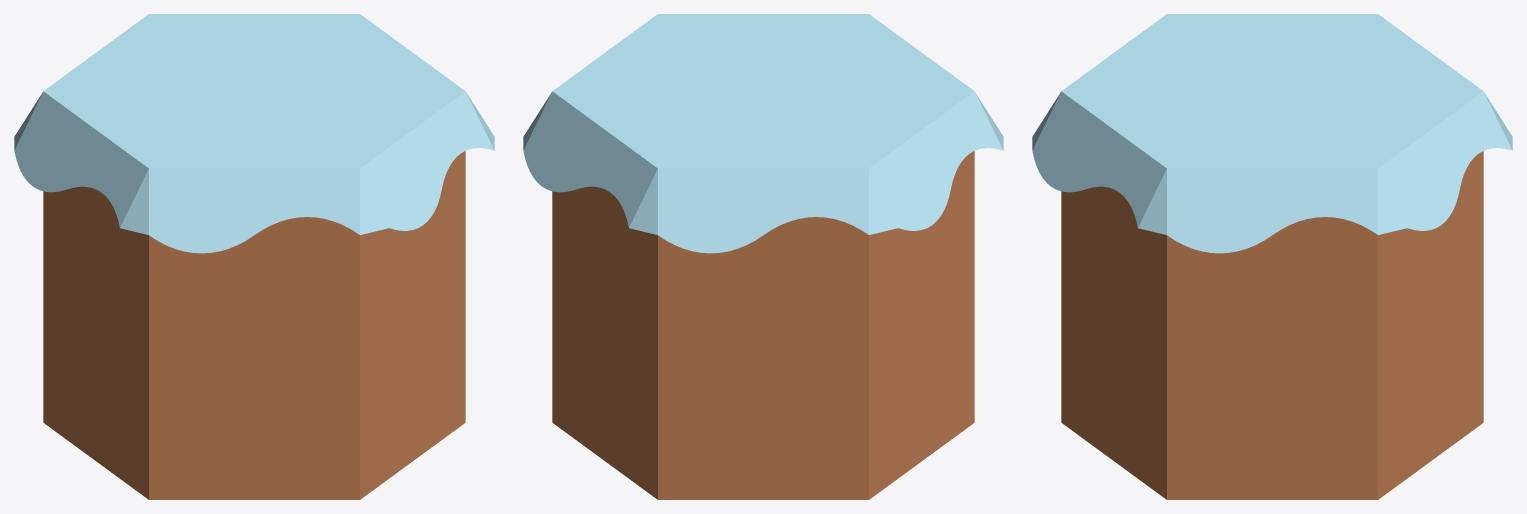
The model's file is blockSnowHexagon.dae.
3 renders of one model, left to right at view 1: azimuth 30°, elevation 25°; view 2: azimuth 150°, elevation 25°; view 3: azimuth 270°, elevation 25°, orthographic.
Visible parts, largest first — view 1: blockSnowHexagon; view 2: blockSnowHexagon; view 3: blockSnowHexagon.
Part boxes in pixels (<box>): blockSnowHexagon: <box>14,14,494,499</box>; blockSnowHexagon: <box>523,14,1003,499</box>; blockSnowHexagon: <box>1032,14,1512,499</box>.
Bounding box in the file's own units: 1.23 × 1 × 1.31.
